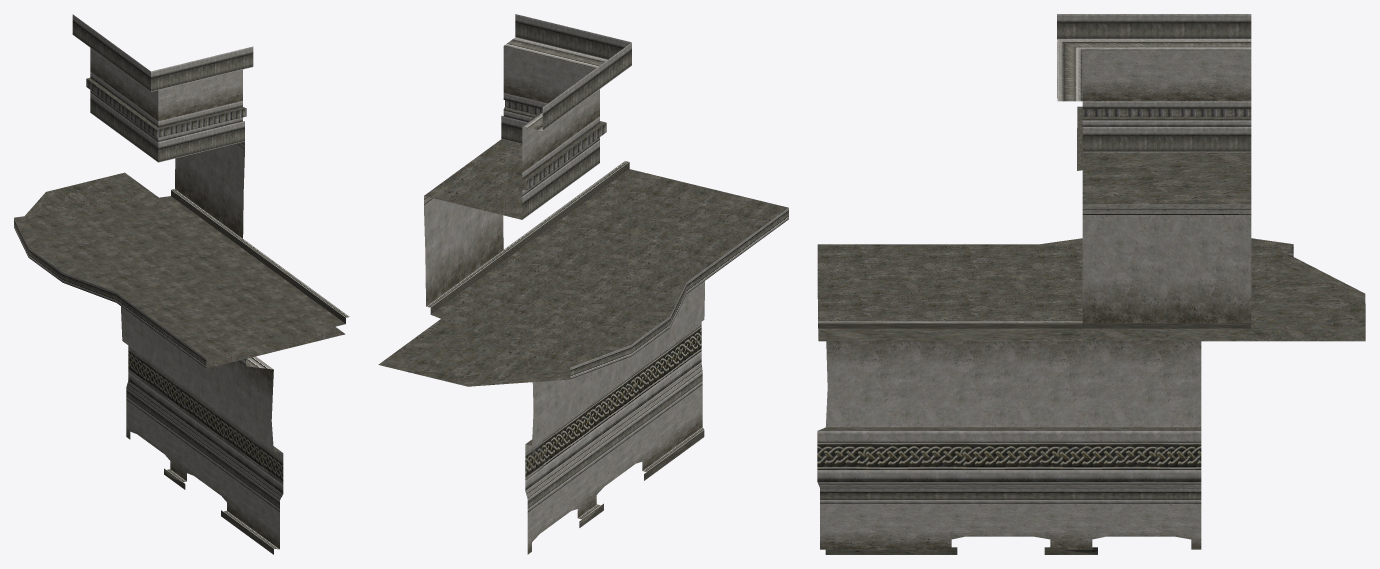
The model's file is DWARF_PALACE_WATER_ROOM_WALL03A01.fbx.
The picture shows the model from 3 angles, left to right: view 1: azimuth 30°, elevation 25°; view 2: azimuth 150°, elevation 25°; view 3: azimuth 270°, elevation 25°; orthographic projection. The views are drawn at different scales.
Parts seen in each view (by area): view 1: DWARF_PALACE_WATER_ROOM_WALL03A01; view 2: DWARF_PALACE_WATER_ROOM_WALL03A01; view 3: DWARF_PALACE_WATER_ROOM_WALL03A01.
Part boxes in pixels (x1,y1,x2,y2): DWARF_PALACE_WATER_ROOM_WALL03A01: (14,14,349,554); DWARF_PALACE_WATER_ROOM_WALL03A01: (378,14,788,554); DWARF_PALACE_WATER_ROOM_WALL03A01: (817,14,1365,554).
Bounding box in the file's own units: 84001 × 205000 × 194729.
7 materials, 7 textured.
